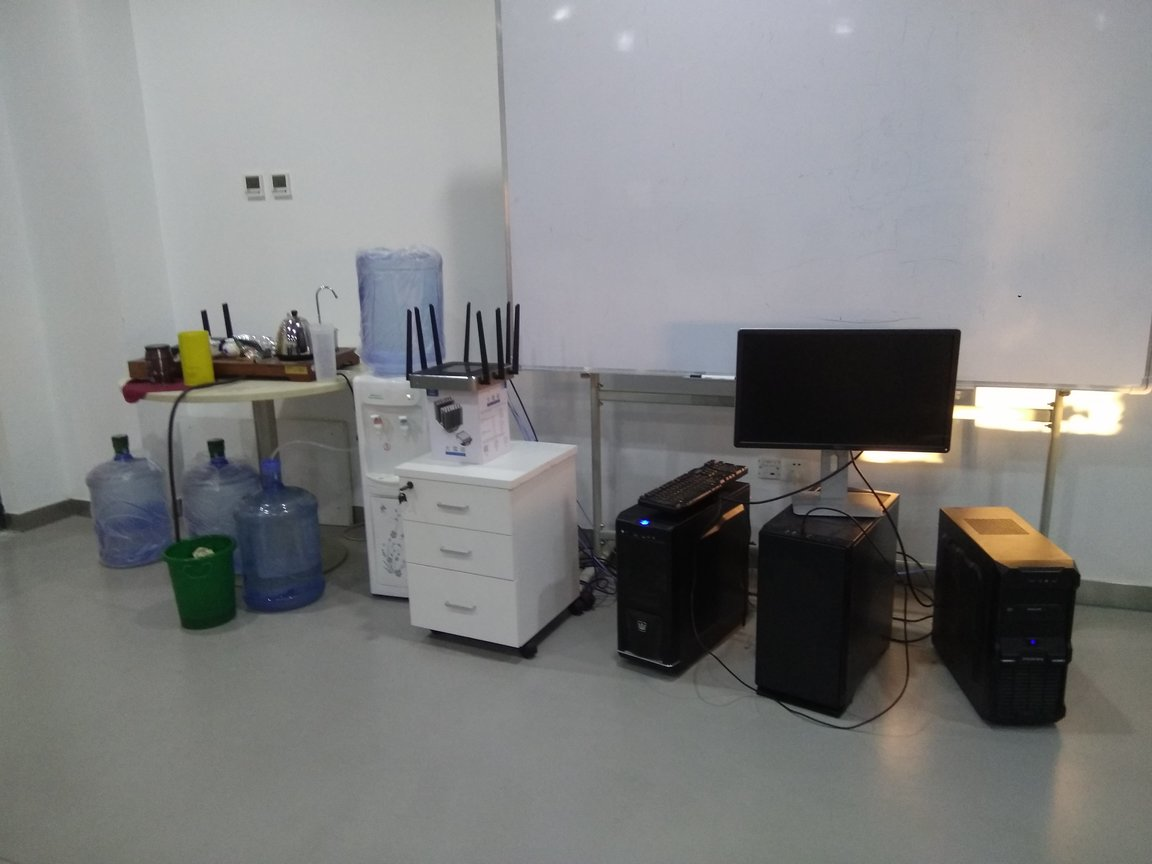computer: (754, 471, 898, 744), (927, 497, 1084, 743), (614, 477, 759, 682)
drawer chest: (399, 438, 588, 667)
monitor: (734, 323, 960, 531)
scuttlebutt: (237, 460, 334, 619), (352, 248, 454, 383), (183, 438, 278, 582), (90, 432, 172, 567)
water dispenser: (351, 370, 479, 604)
